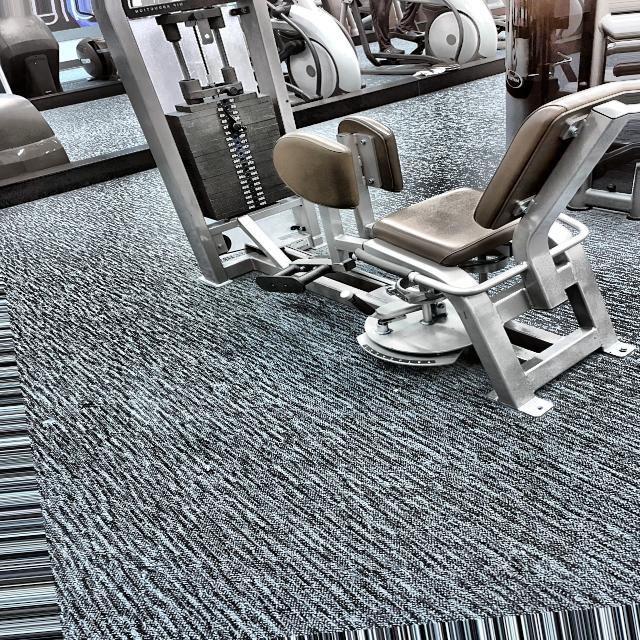hip_adduction_machine: (305, 70, 638, 420), (260, 99, 454, 371)
